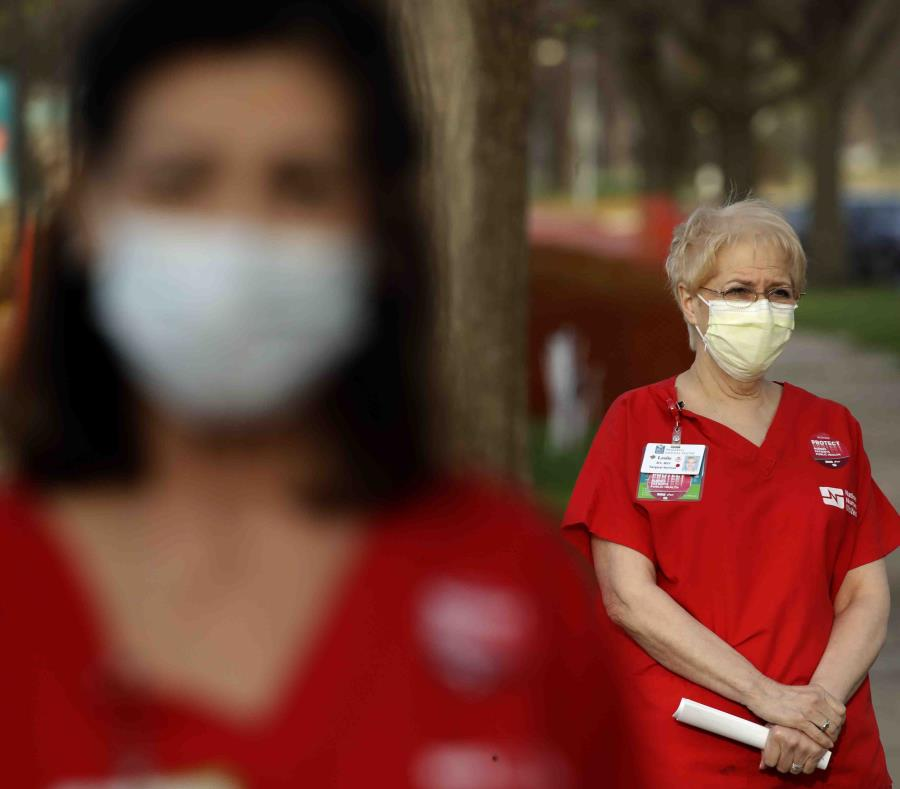with_mask: (90, 46, 398, 429), (688, 233, 807, 384)
